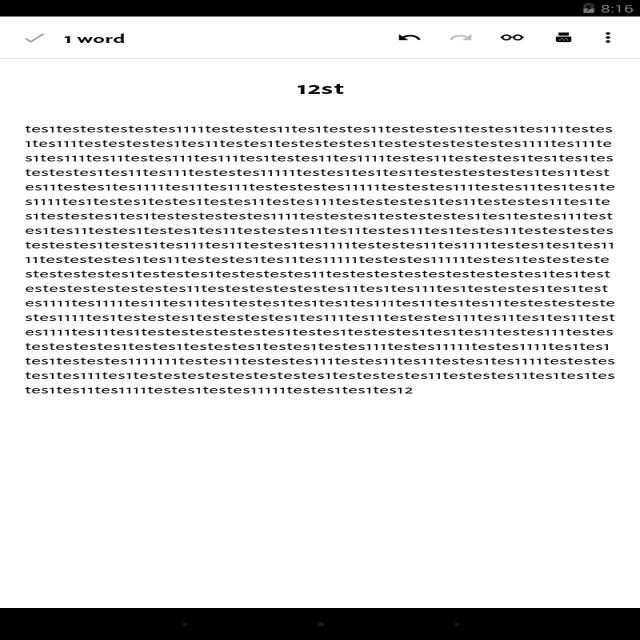ImageButton: (389, 23, 428, 45), (594, 24, 622, 52), (546, 25, 576, 50), (496, 30, 536, 44), (452, 31, 481, 49)
TextView: (16, 116, 618, 394), (289, 77, 356, 105), (56, 28, 136, 50)
